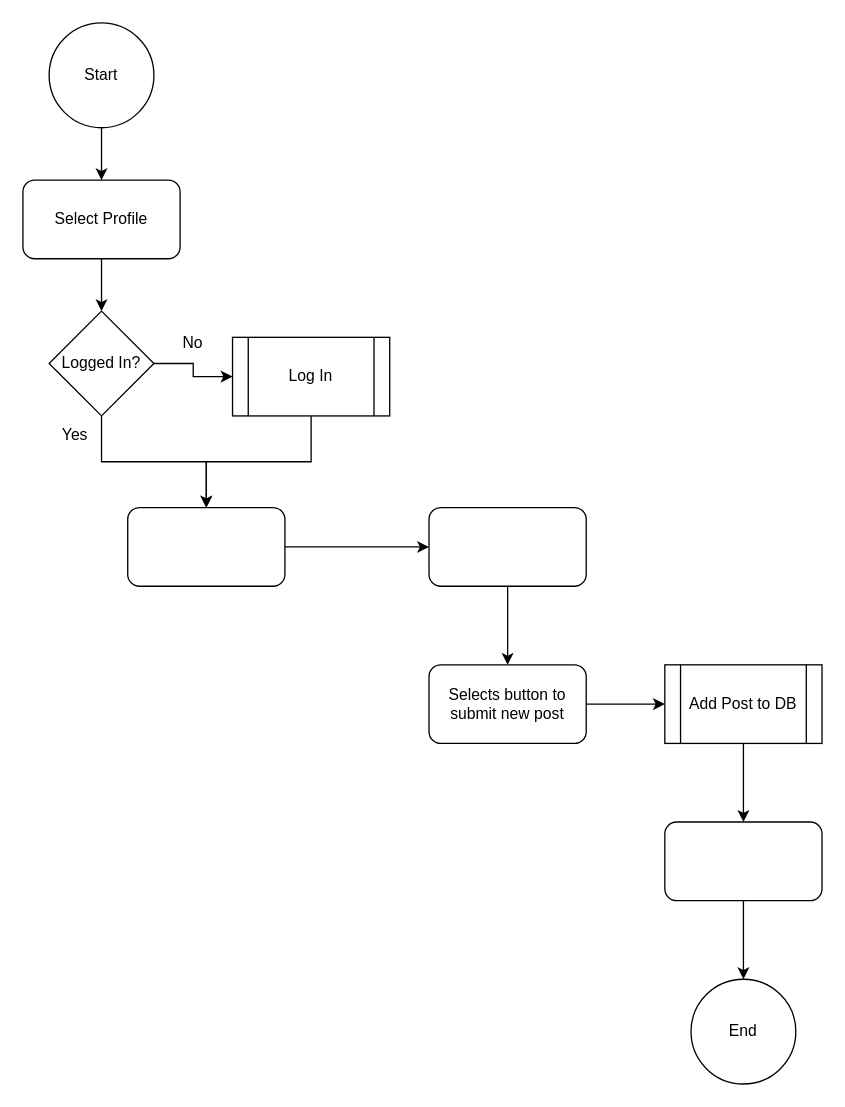
Some shapes in this 845 by 1107 pixel diagram are drawn without their labels. The centre of each missing label's shape, as x and y in pixels:
Add details for the post: (x=507, y=546)
Return User to Profile page with updated posts: (x=743, y=861)
Select Add Post: (x=205, y=546)
